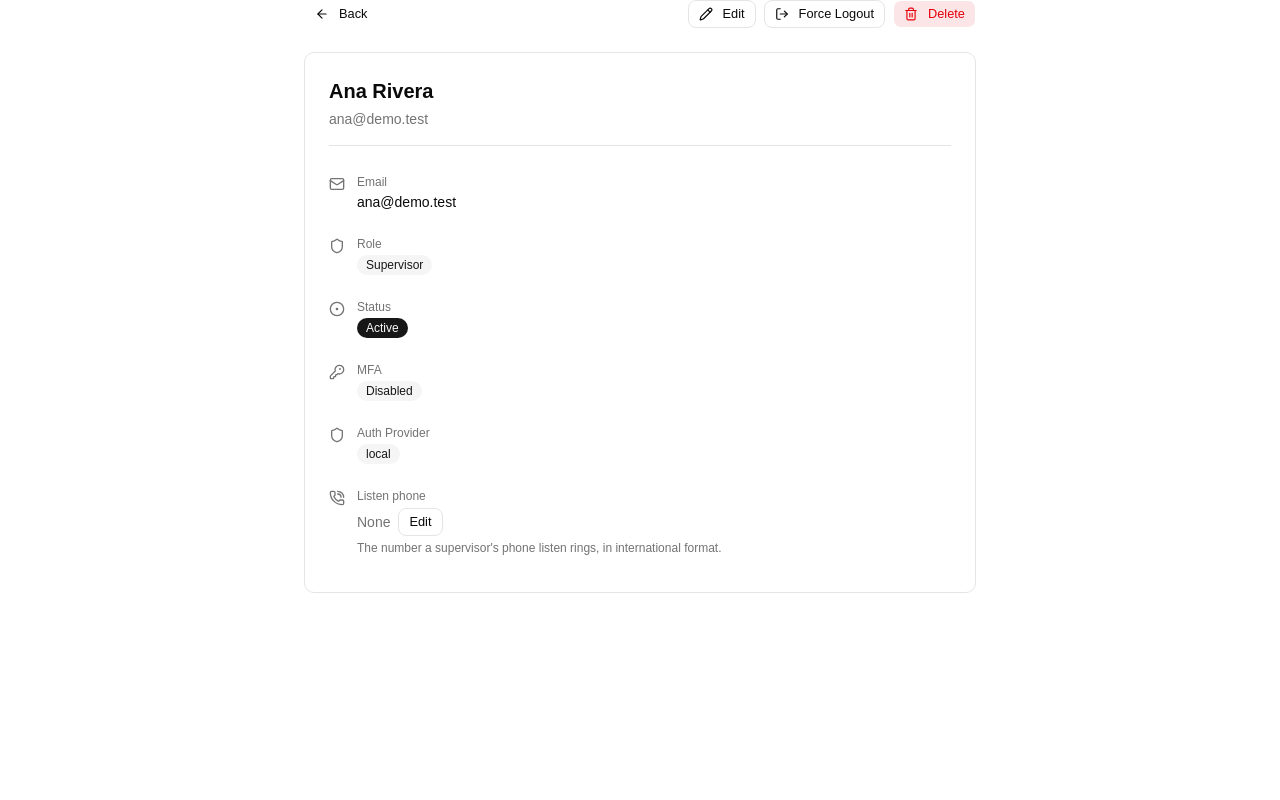
UserDetailPage edit sheet › UserDetailPage_ShouldPutTheSuspendedEnumNameAndShowTheUserSuspended_WhenSuspendedIsSaved
The width and height of the screenshot is (1280, 800).
expect the icon with test id "user-status-badge" is shown: met, box [357,318,408,338]
Click the button with test id "user-edit-btn". click: (722, 14)
box: [688,0,756,28]
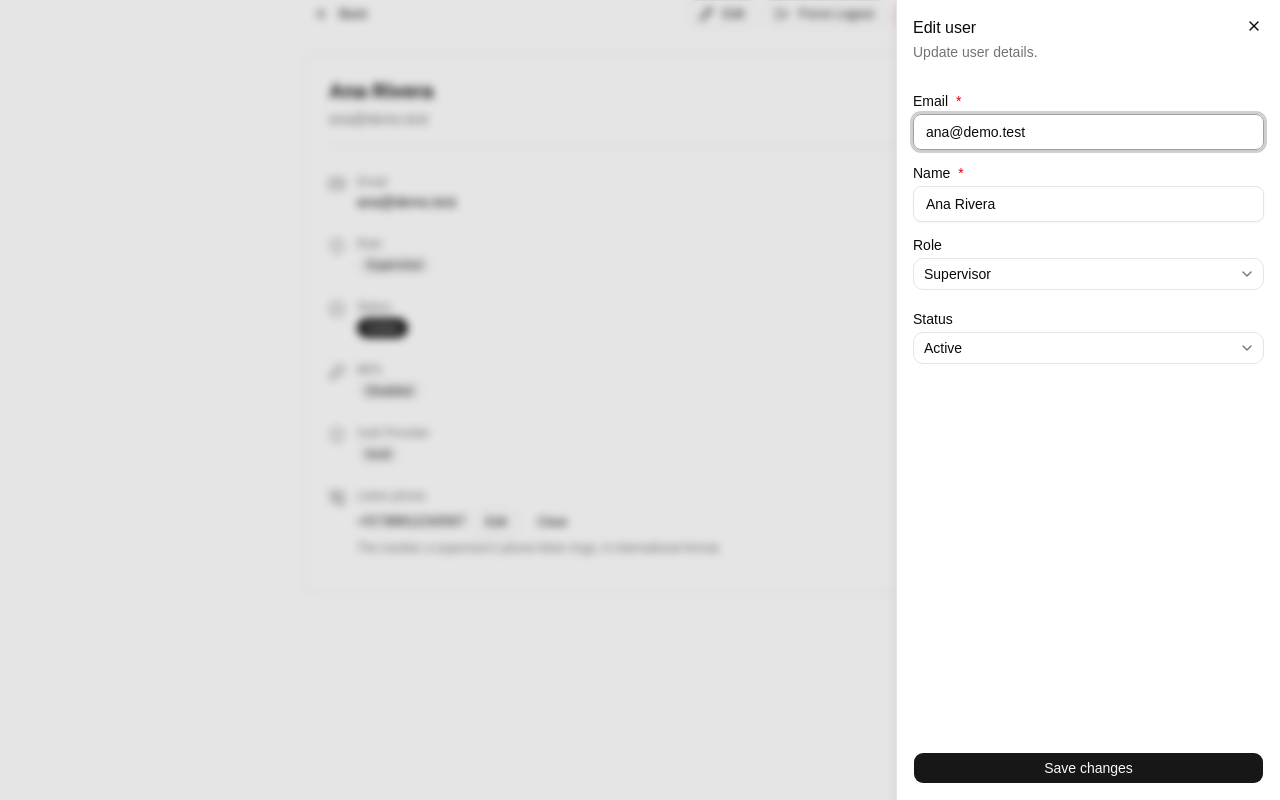
expect the dropdown with test id "user-form-status" is shown: met
Click the dropdown with test id "user-form-status". click: (943, 348)
box: [913,332,1264,364]
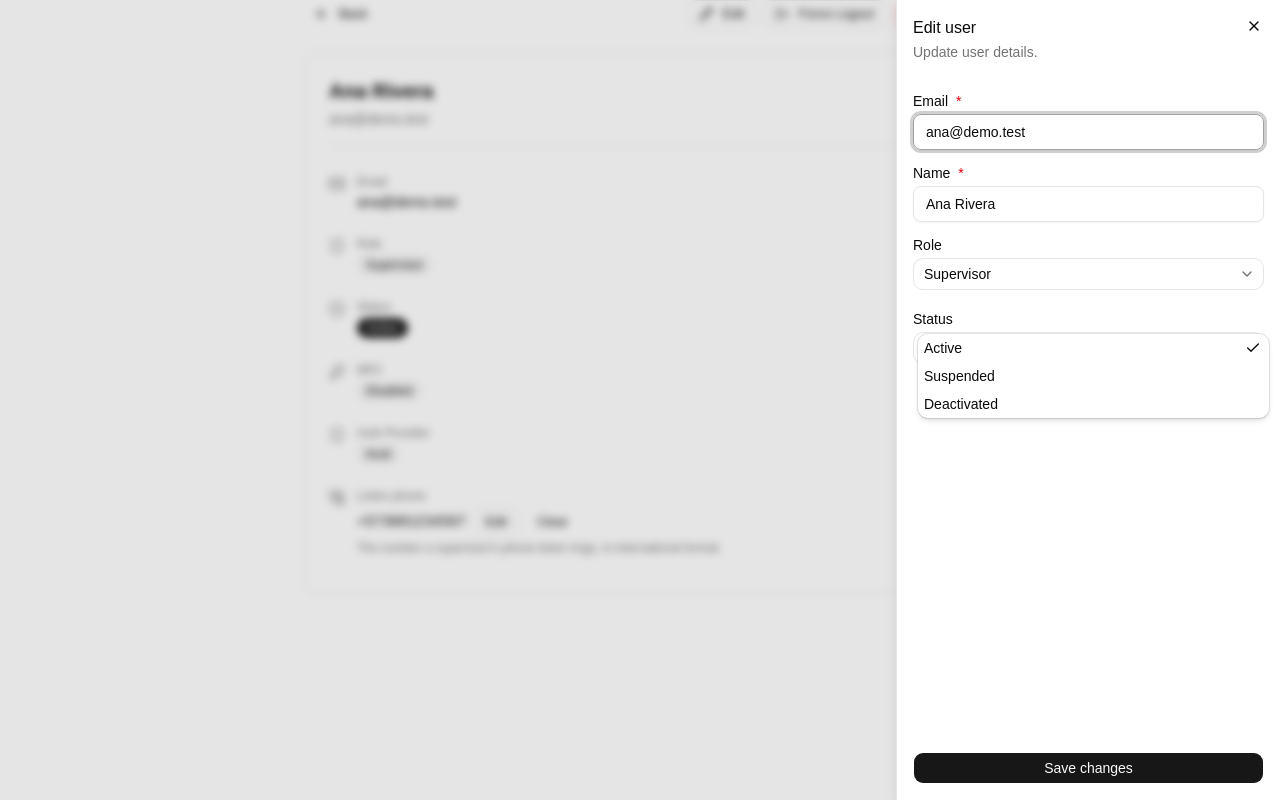
Click the option with test id "user-form-status-option-Suspended". click: (959, 376)
box: [924,368,995,384]
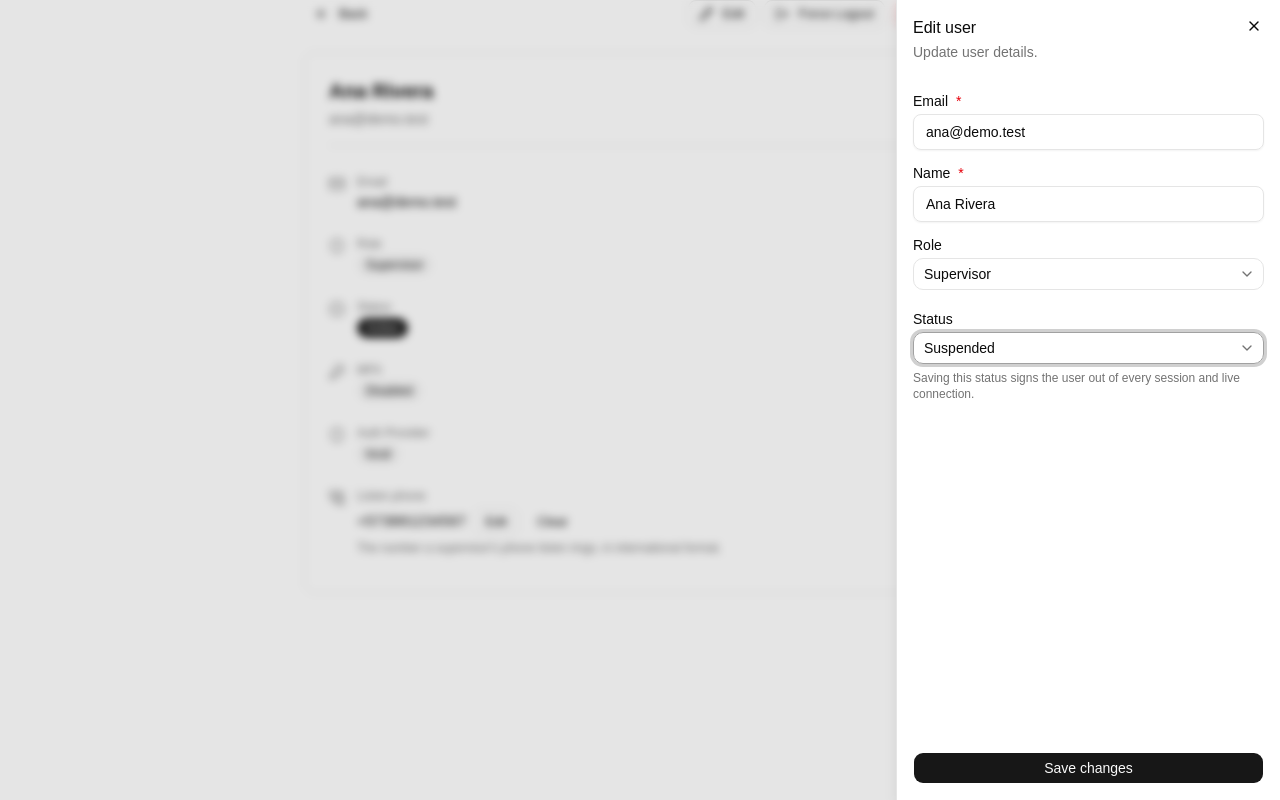
expect no options are shown: met
expect the text with test id "user-form-status-hint" is shown: met, box [913,370,1264,402]
Click the button with test id "user-form-submit". click: (1088, 768)
box: [913,752,1264,784]
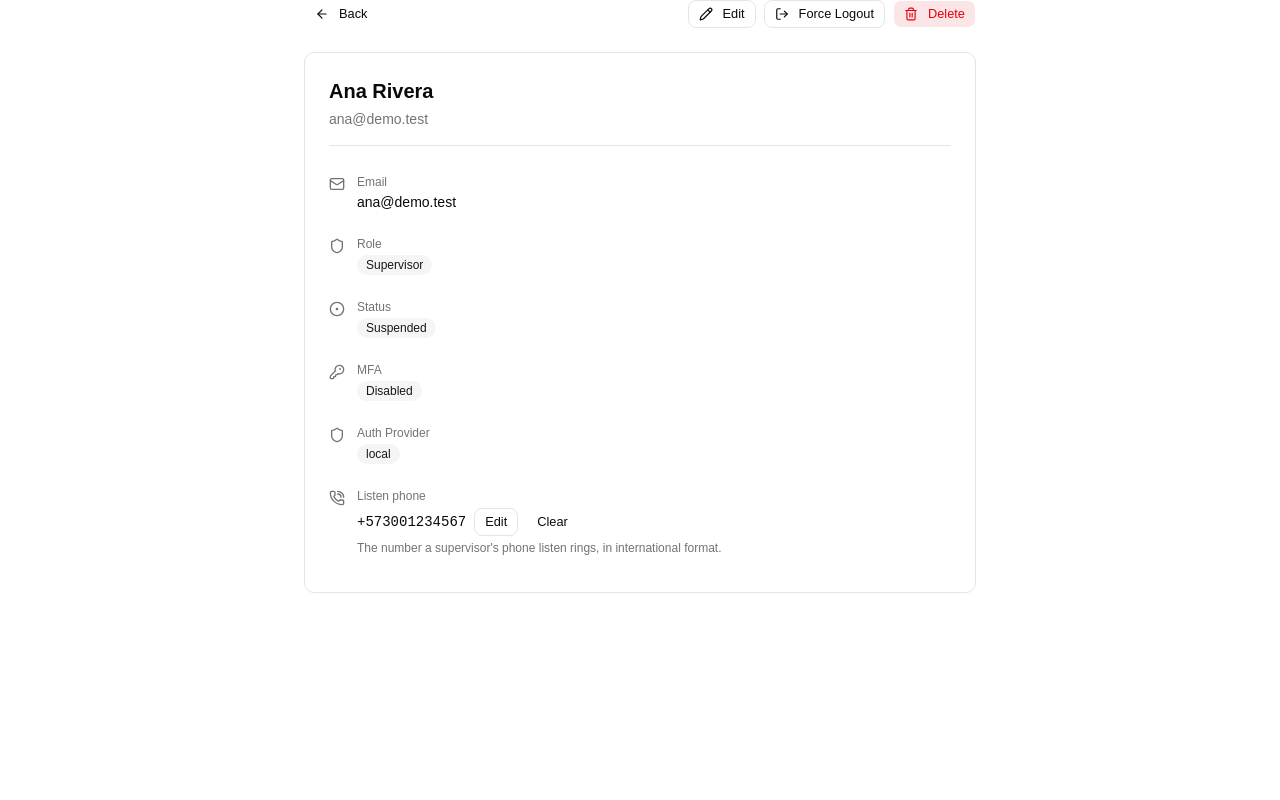
expect the text with test id "user-status-badge" reads "Suspended": met, box [366,321,427,335]
